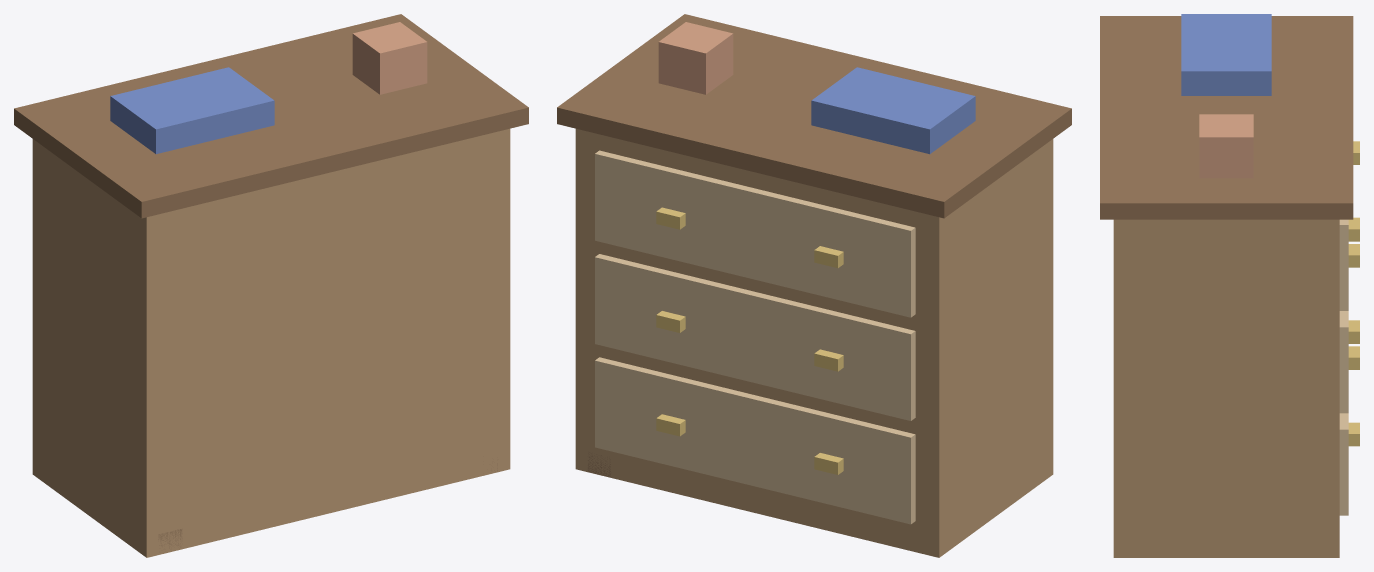
Rendered from dresser.glb.
3 renders of one model, left to right at view 1: azimuth 30°, elevation 25°; view 2: azimuth 150°, elevation 25°; view 3: azimuth 270°, elevation 25°, orthographic.
Visible parts, largest first — view 1: dresser; view 2: dresser; view 3: dresser.
Part boxes in pixels (bbox=[...]): dresser: bbox=[14, 14, 528, 557]; dresser: bbox=[557, 14, 1071, 557]; dresser: bbox=[1100, 14, 1359, 557].
Bounding box in the file's own units: 0.98 × 0.98 × 0.575.
